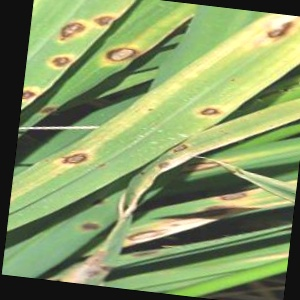Bacterial_Leaf_Blight: (238, 6, 300, 48), (92, 37, 143, 77), (51, 13, 92, 49), (41, 45, 79, 78), (123, 222, 174, 246), (188, 97, 231, 125), (56, 144, 96, 172), (86, 5, 122, 34), (215, 185, 252, 209), (23, 79, 44, 114), (70, 216, 108, 235), (167, 137, 194, 157), (151, 156, 176, 175), (97, 160, 110, 171), (143, 106, 157, 116), (136, 170, 149, 179), (41, 157, 52, 166), (56, 171, 67, 180), (229, 74, 238, 84)
